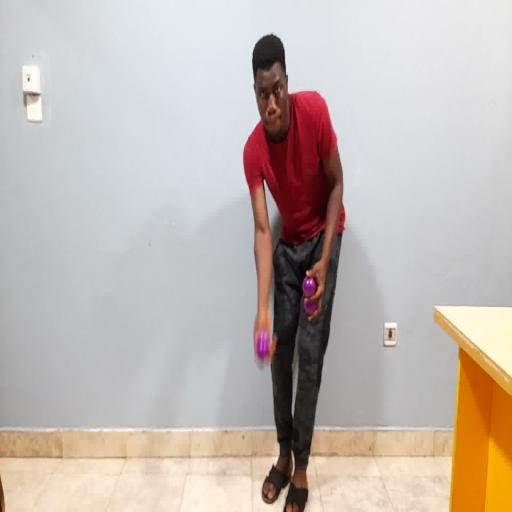plastic-ball: (255, 333, 271, 366)
